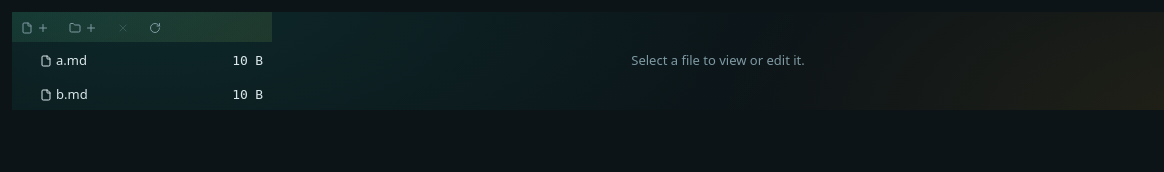
Scenario: ExplorerView — creating and renaming › shows what the server said when a name is taken
Expected: the text "a.md" is shown, [56,51,87,69]
Step 1. Double-click the button with test id "explorer-item" showing "a.md 10 B" → (71, 60), box [12,44,272,76]
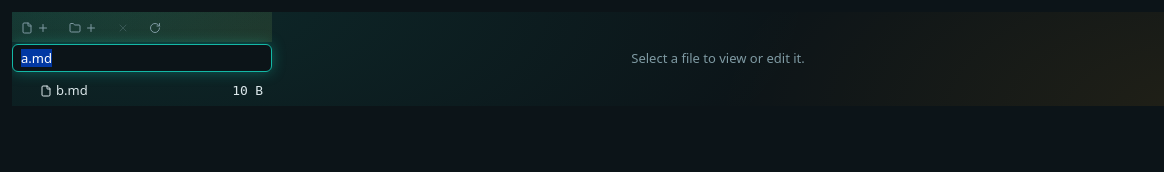
Step 2. Replace the text in the field showing "a.md" with "b.md" → (142, 58), box [12,44,272,72]
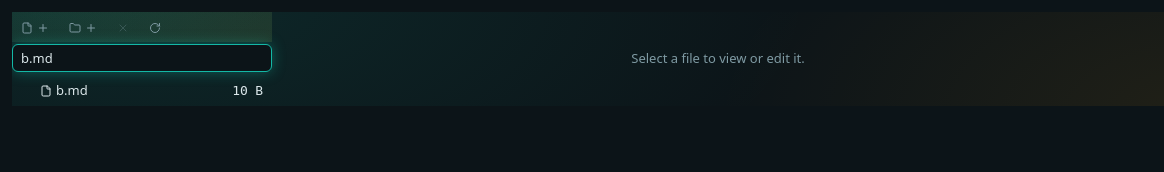
Step 3. Press Enter in the field showing "b.md", box [12,44,272,72]
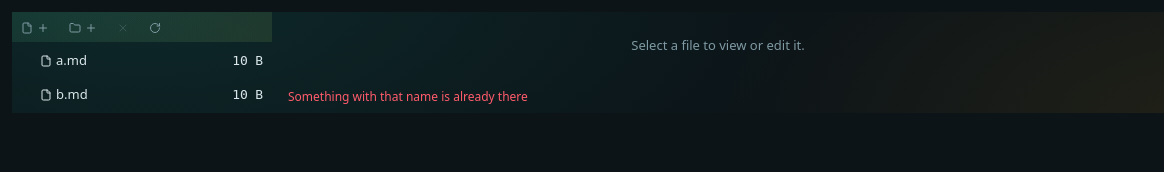
Expected: the text "Something with that name is already there" is shown, [288,88,528,104]
